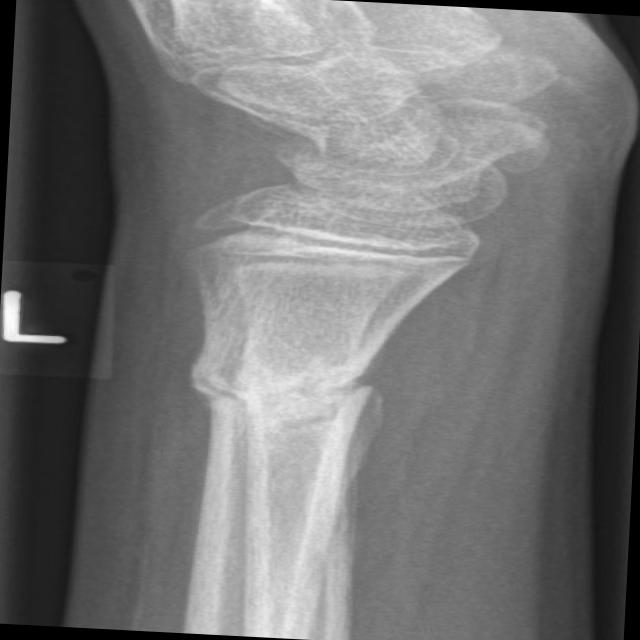fracture: (184, 206, 499, 294), (169, 356, 419, 448)
